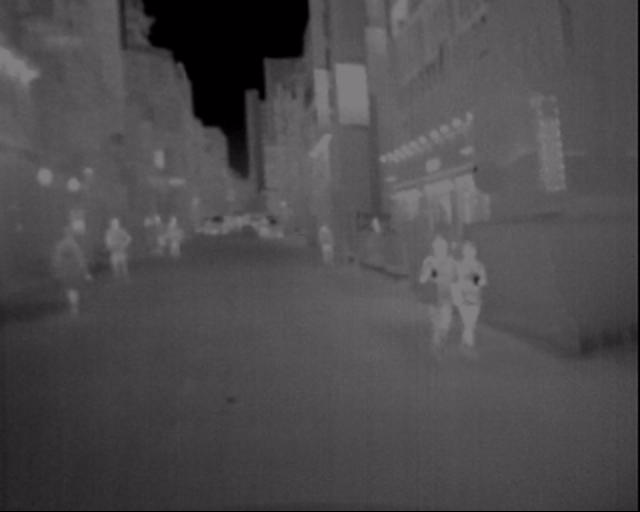person: (411, 220, 470, 372), (38, 208, 91, 351), (462, 223, 507, 369), (103, 210, 133, 292), (316, 215, 346, 268)
